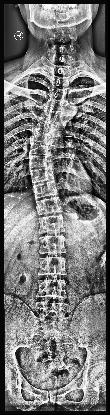Vertebrae: (37, 280, 67, 300), (36, 303, 68, 321), (38, 258, 68, 276), (37, 218, 63, 234), (40, 238, 66, 254), (33, 184, 57, 198), (36, 201, 60, 214), (30, 170, 54, 182), (53, 64, 71, 78), (32, 132, 52, 144), (29, 144, 49, 156), (49, 85, 66, 98), (52, 76, 70, 88), (40, 110, 58, 122), (30, 157, 50, 167), (46, 100, 62, 112), (36, 119, 52, 131)
